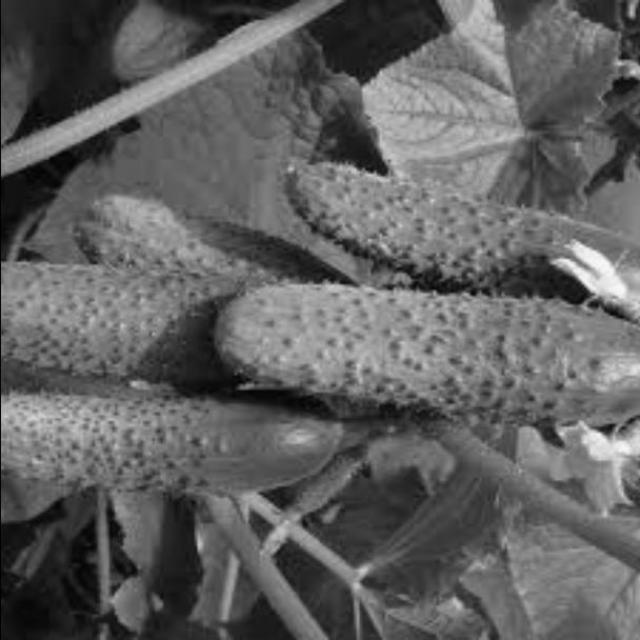dua chuot: (208, 275, 640, 443), (265, 157, 640, 300), (1, 386, 365, 519), (1, 243, 296, 382)
